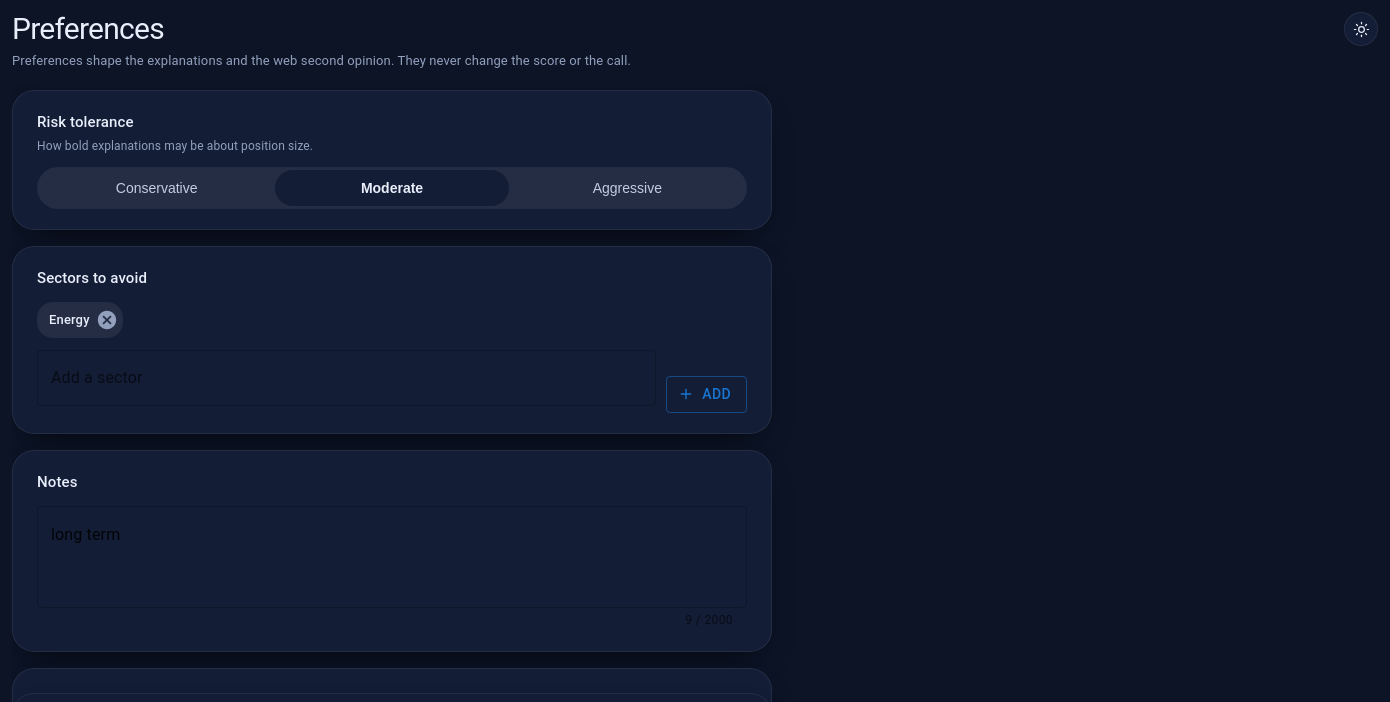
Scenario: PreferencesPage › removes a sector chip
Click the button named "remove energy": (107, 320) [96, 309, 118, 331]
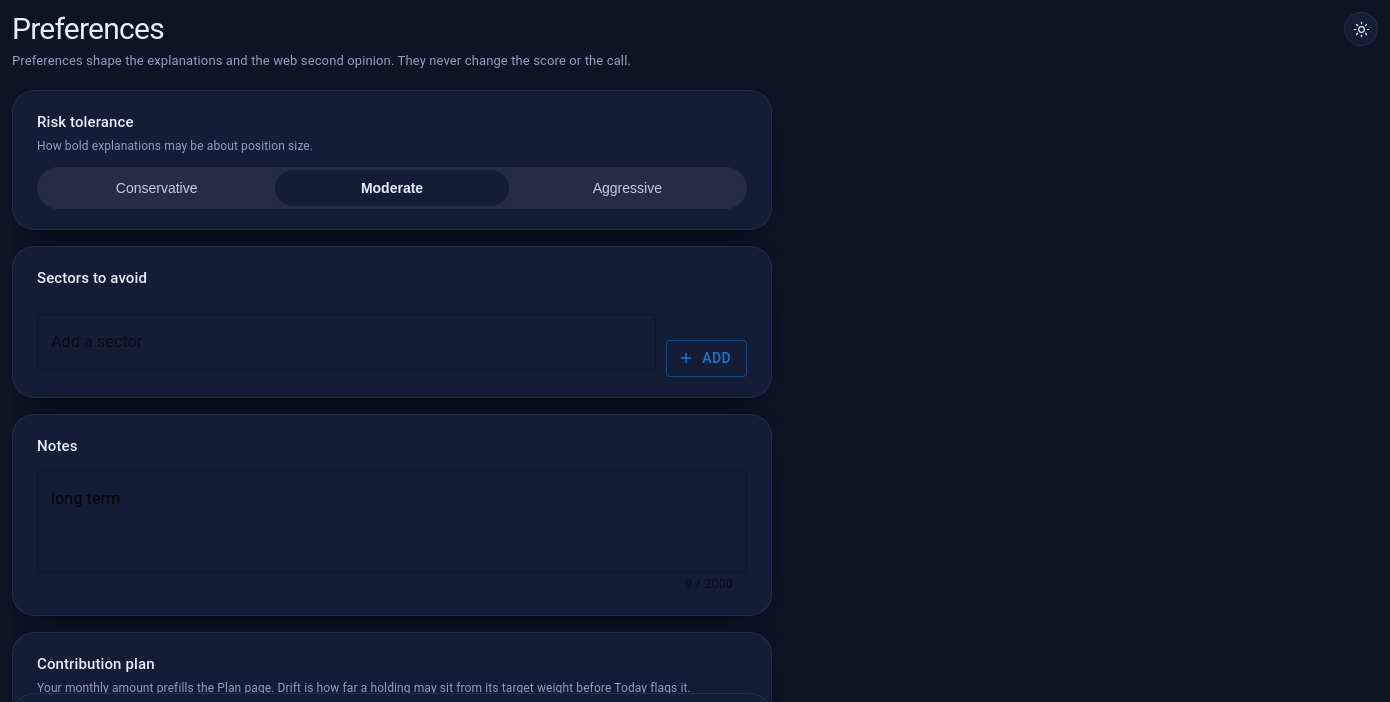
Now the button "Energy" is gone
